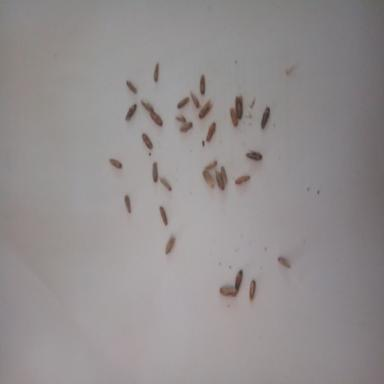pbw: (199, 100, 212, 118), (203, 170, 215, 188), (206, 122, 216, 142), (261, 107, 270, 129), (150, 111, 163, 126), (235, 95, 243, 119), (125, 104, 137, 120), (246, 149, 262, 161), (166, 236, 176, 255), (219, 287, 238, 297), (216, 170, 225, 190), (142, 134, 153, 150), (235, 270, 243, 292), (190, 91, 200, 108), (140, 100, 154, 112), (160, 206, 168, 226), (177, 97, 190, 109), (220, 166, 228, 184), (230, 108, 238, 126), (126, 81, 137, 94), (160, 178, 171, 191), (249, 280, 256, 300), (278, 257, 290, 268), (109, 158, 122, 168), (204, 161, 218, 170), (124, 195, 131, 213), (235, 176, 250, 184), (180, 122, 192, 132), (152, 162, 158, 182), (153, 63, 159, 82), (200, 74, 205, 94)
